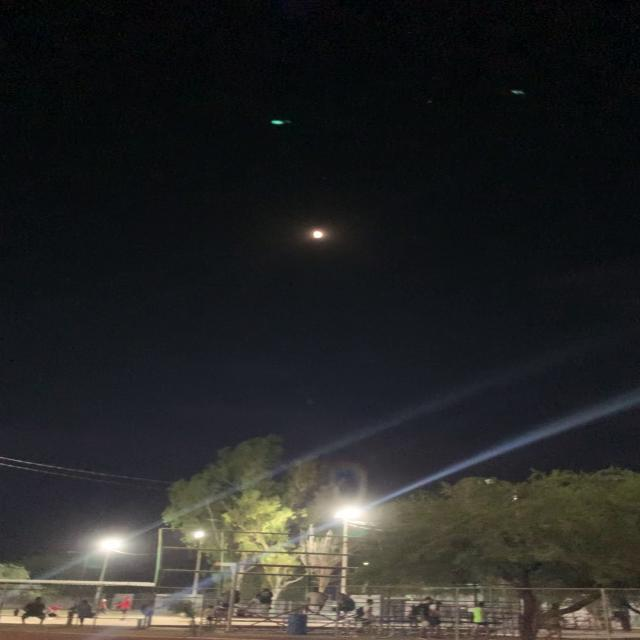moon: (306, 225, 334, 243)
